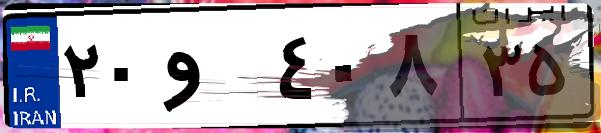0: (330, 28, 385, 110), (110, 28, 158, 98)
2: (57, 26, 110, 100)
3: (475, 38, 525, 113)
4: (270, 28, 330, 110)
5: (525, 38, 570, 115)
8: (385, 28, 445, 110)
و: (158, 20, 270, 120)
